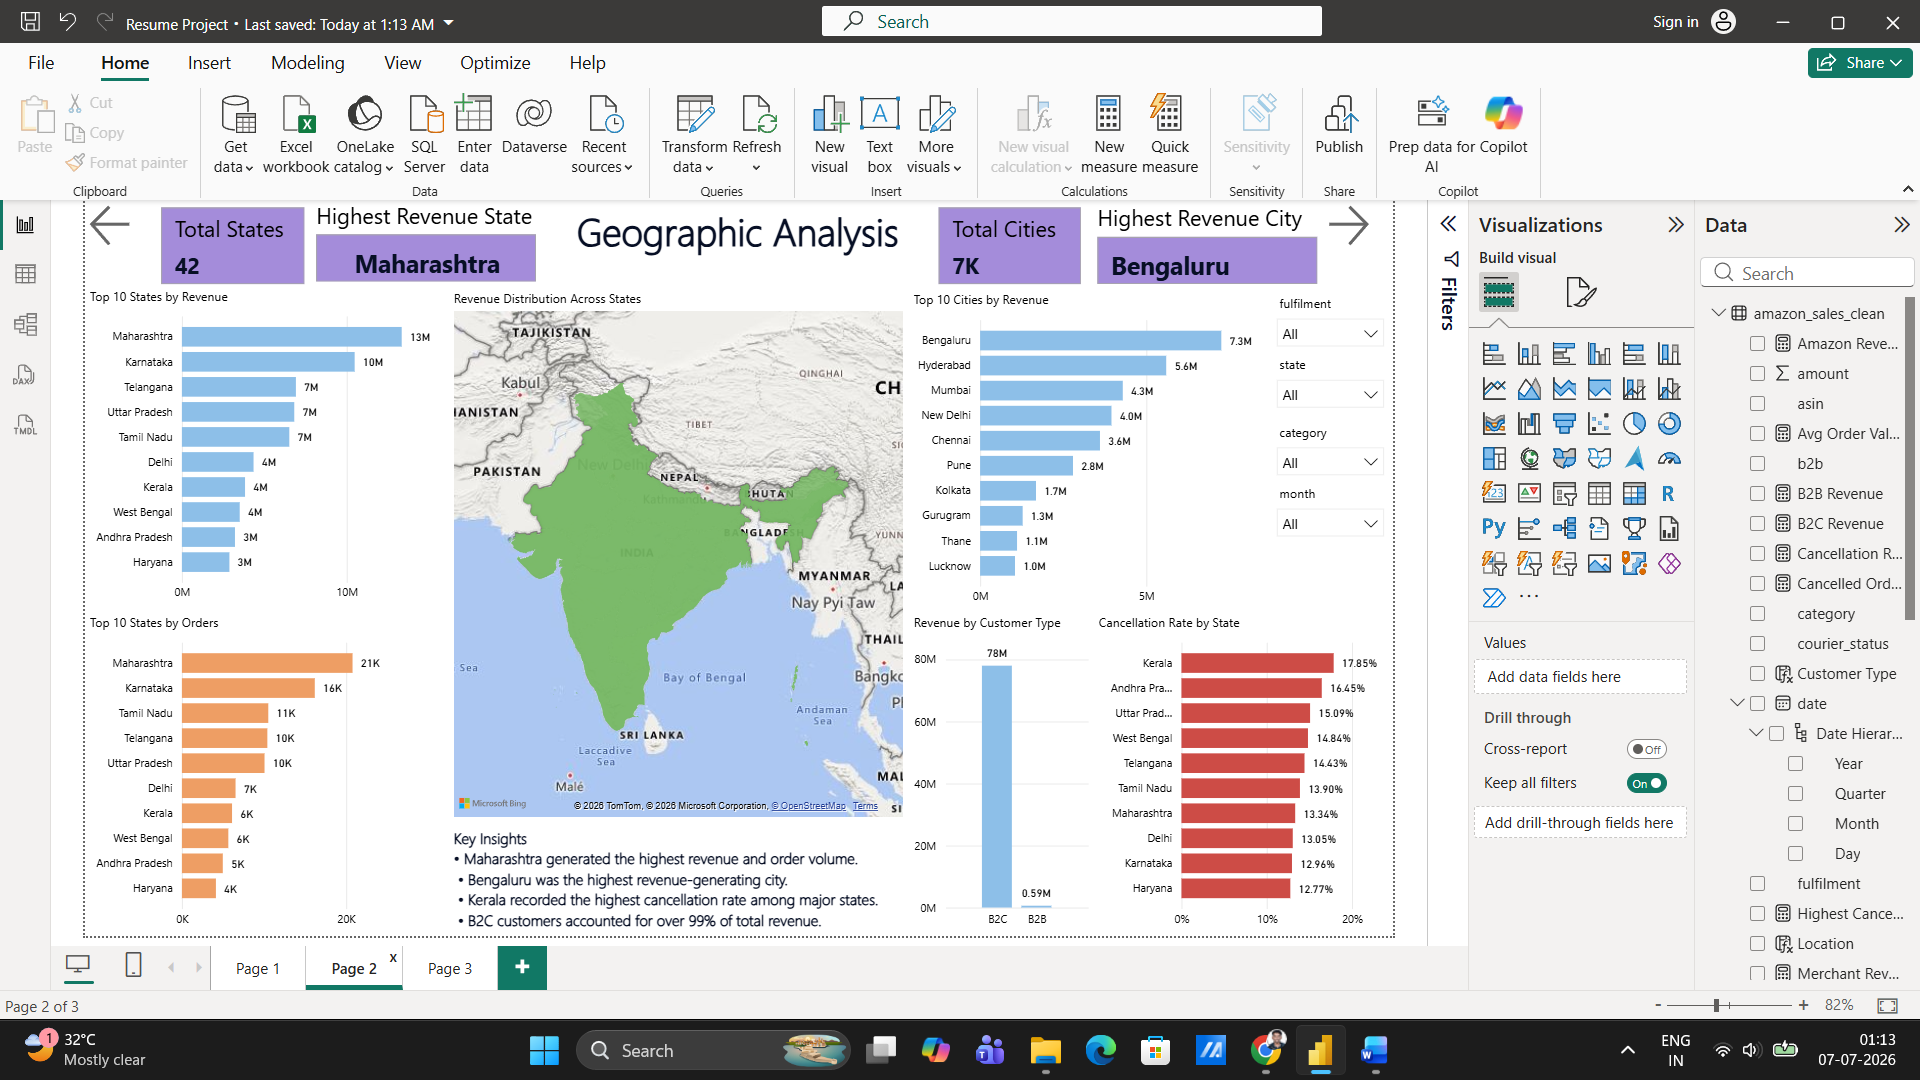

Layout of this report page (visuals, bound fields, positions):
{"tool":"powerbi","page":{"name":"Page 2","canvas":[1280,720],"ordinal":1},"visuals":[{"type":"textbox","box":[446,0,384.2,67.2],"z":0},{"type":"cardVisual","title":"Highest Revenue State","fields":{"Data":["Min(amazon_sales_clean.ship_state)"]},"box":[220.9,0,225,85.1],"z":1000},{"type":"cardVisual","fields":{"Data":["amazon_sales_clean.Total States"]},"box":[70,2.7,150.9,85.1],"z":2000},{"type":"cardVisual","fields":{"Data":["amazon_sales_clean.Total Cities"]},"box":[830.2,2.7,149.6,85.1],"z":3000},{"type":"filledMap","title":"Revenue Distribution Across States","fields":{"Category":["amazon_sales_clean.Location"]},"box":[355.4,87.8,450.1,521.4],"z":4000},{"type":"cardVisual","title":"Highest Revenue City","fields":{"Data":["Min(amazon_sales_clean.ship_city)"]},"box":[985.3,2.7,225,85.1],"z":5000},{"type":"actionButton","box":[0,0,70,50],"z":6000},{"type":"actionButton","box":[1210.3,0,70,50],"z":7000},{"type":"clusteredBarChart","title":"Top 10 States by Revenue","fields":{"Category":["amazon_sales_clean.ship_state"],"Y":["amazon_sales_clean.Total Revenue"]},"box":[0,85.1,355,315.6],"z":8000},{"type":"clusteredBarChart","title":"Top 10 Cities by Revenue","fields":{"Category":["amazon_sales_clean.ship_city"],"Y":["amazon_sales_clean.Total Revenue"]},"box":[805.5,89.2,349.9,315.6],"z":9000},{"type":"clusteredBarChart","title":"Top 10 States by Orders","fields":{"Category":["amazon_sales_clean.ship_state"],"Y":["amazon_sales_clean.Total Orders"]},"box":[0,404.8,350,315.6],"z":10000},{"type":"clusteredBarChart","title":"Cancellation Rate by State","fields":{"Category":["amazon_sales_clean.ship_state"],"Y":["amazon_sales_clean.Cancellation Rate"]},"box":[986.6,404.8,293.7,315.6],"z":11000},{"type":"columnChart","title":"Revenue by Customer Type","fields":{"Category":["amazon_sales_clean.Customer Type"],"Y":["amazon_sales_clean.Total Revenue"]},"box":[805.5,404.8,181.1,315.6],"z":12000},{"type":"slicer","fields":{"Values":["amazon_sales_clean.ship_state"]},"box":[1155.4,148.2,124.9,60.4],"z":13000},{"type":"slicer","fields":{"Values":["amazon_sales_clean.fulfilment"]},"box":[1155.4,87.8,124.9,60.4],"z":14000},{"type":"slicer","fields":{"Values":["amazon_sales_clean.category"]},"box":[1155.4,214.1,124.9,60.4],"z":15000},{"type":"slicer","fields":{"Values":["amazon_sales_clean.date.Variation.Date Hierarchy.Month"]},"box":[1155.4,274.4,124.9,60.4],"z":16000},{"type":"textbox","box":[355.4,609.3,450.1,111.1],"z":17000}]}

Visuals, with their boxes on the page's 1280x720 design canvas (x1, y1, x2, y2). These are canvas units, not pixel positions in the 1920x1080 screenshot, which may show the page scaled, cropped or inside an application window:
textbox: 446 0 830 67
"Highest Revenue State" cardVisual: 221 0 446 85
cardVisual - amazon_sales_clean.Total States: 70 3 221 88
cardVisual - amazon_sales_clean.Total Cities: 830 3 980 88
"Revenue Distribution Across States" filledMap: 355 88 806 609
"Highest Revenue City" cardVisual: 985 3 1210 88
actionButton: 0 0 70 50
actionButton: 1210 0 1280 50
"Top 10 States by Revenue" clusteredBarChart: 0 85 355 401
"Top 10 Cities by Revenue" clusteredBarChart: 806 89 1155 405
"Top 10 States by Orders" clusteredBarChart: 0 405 350 720
"Cancellation Rate by State" clusteredBarChart: 987 405 1280 720
"Revenue by Customer Type" columnChart: 806 405 987 720
slicer - amazon_sales_clean.ship_state: 1155 148 1280 209
slicer - amazon_sales_clean.fulfilment: 1155 88 1280 148
slicer - amazon_sales_clean.category: 1155 214 1280 274
slicer - amazon_sales_clean.date.Variation.Date Hierarchy.Month: 1155 274 1280 335
textbox: 355 609 806 720
